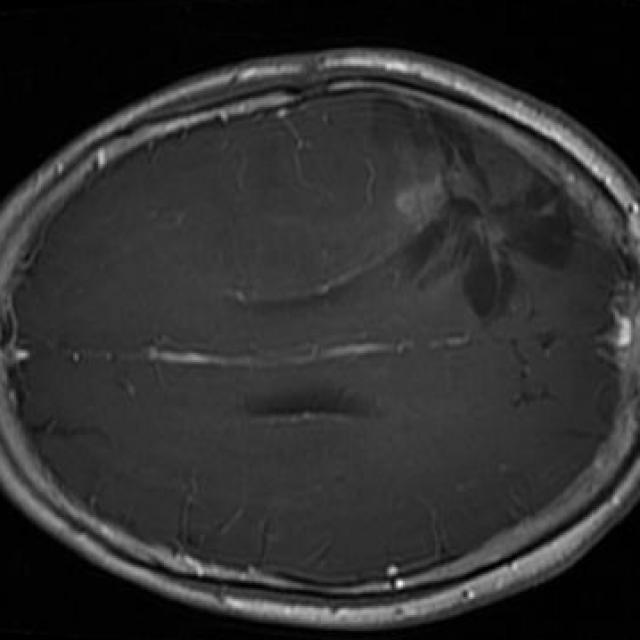glioma: (374, 100, 574, 319)
